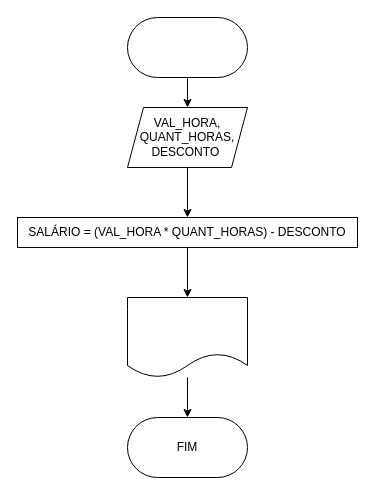
The diagram is 375 pixels wide and 495 high, and some of its shapes have lost their labels. The shapes that lost their labels are listed below. From the top down, each one's centre as x and y in pixels, then its label:
the point at 187,47: INÍCIO
the point at 187,337: SALÁRIO
